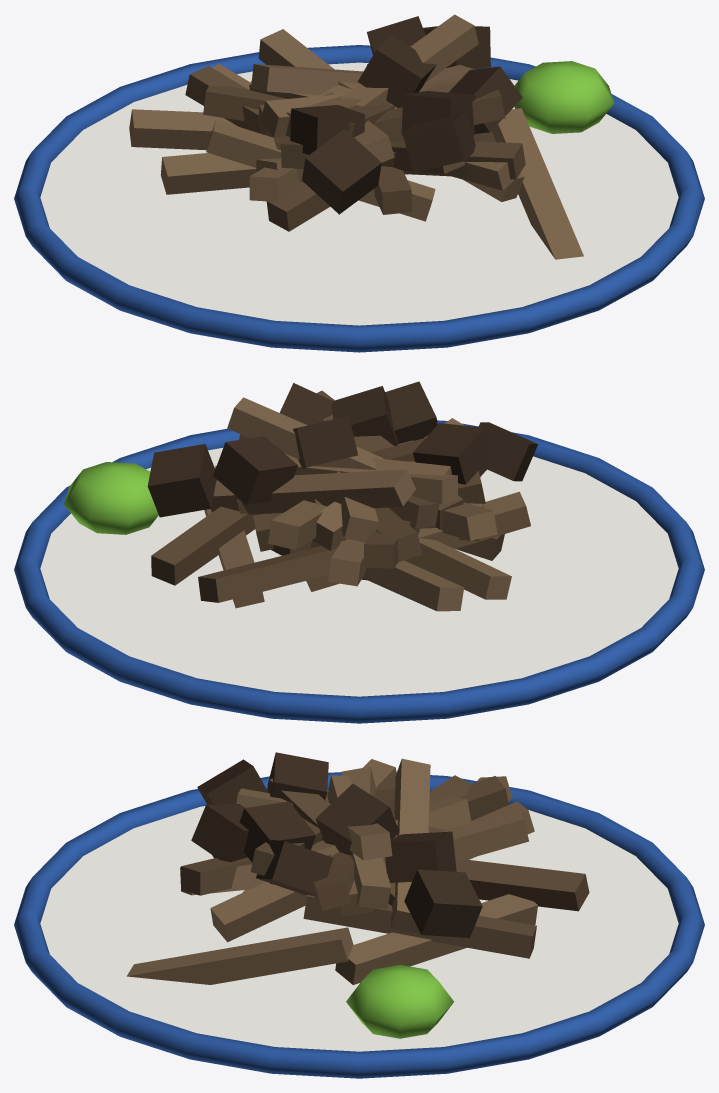
Rendered from dish_fail.glb.
3 renders of one model, top to bottom at view 1: azimuth 30°, elevation 25°; view 2: azimuth 150°, elevation 25°; view 3: azimuth 270°, elevation 25°, orthographic.
Parts seen in each view (by area): view 1: dish_fail; view 2: dish_fail; view 3: dish_fail.
Part boxes in pixels (x1=…): dish_fail: x1=14, y1=14, x2=704, y2=352; dish_fail: x1=14, y1=381, x2=704, y2=723; dish_fail: x1=14, y1=752, x2=704, y2=1078.
Size of the model in its own units: 0.51 by 0.1547 by 0.51.
